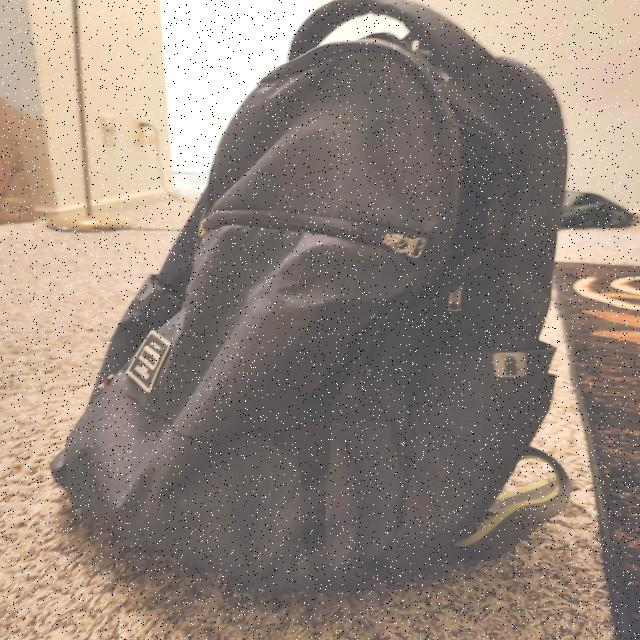bag: (62, 3, 546, 570)
